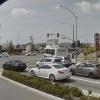Car: (5, 53, 70, 80)
